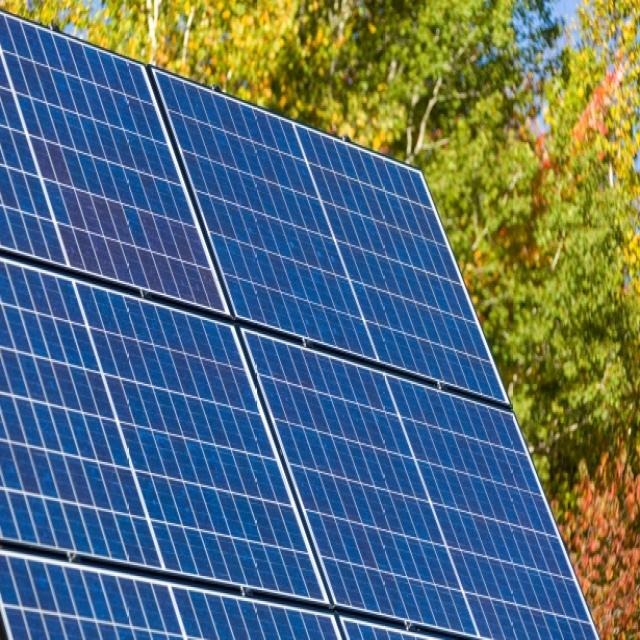clean-solar-panel: (0, 14, 594, 639)
